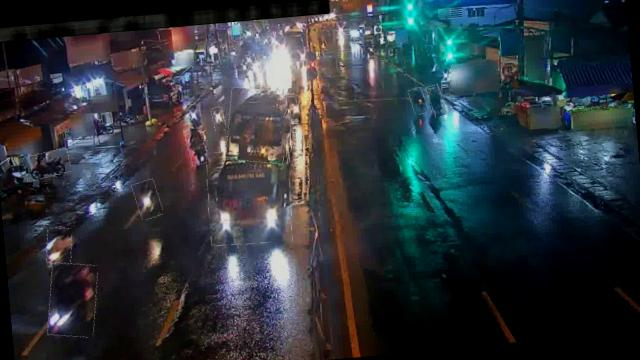Bike: (44, 261, 100, 340), (23, 149, 72, 180), (134, 178, 162, 220), (44, 227, 74, 265), (185, 126, 208, 166), (427, 84, 446, 117), (410, 87, 428, 115), (186, 104, 202, 129), (211, 106, 226, 131)
Bus: (223, 84, 297, 168)
Car: (287, 92, 302, 121)
Truck: (203, 147, 294, 248)
